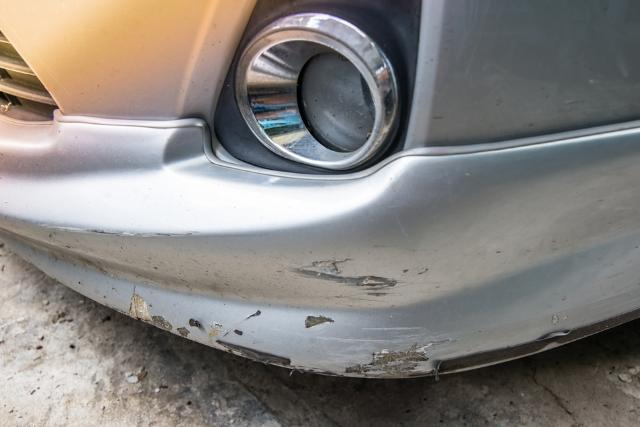Bumper: (48, 206, 599, 386)
